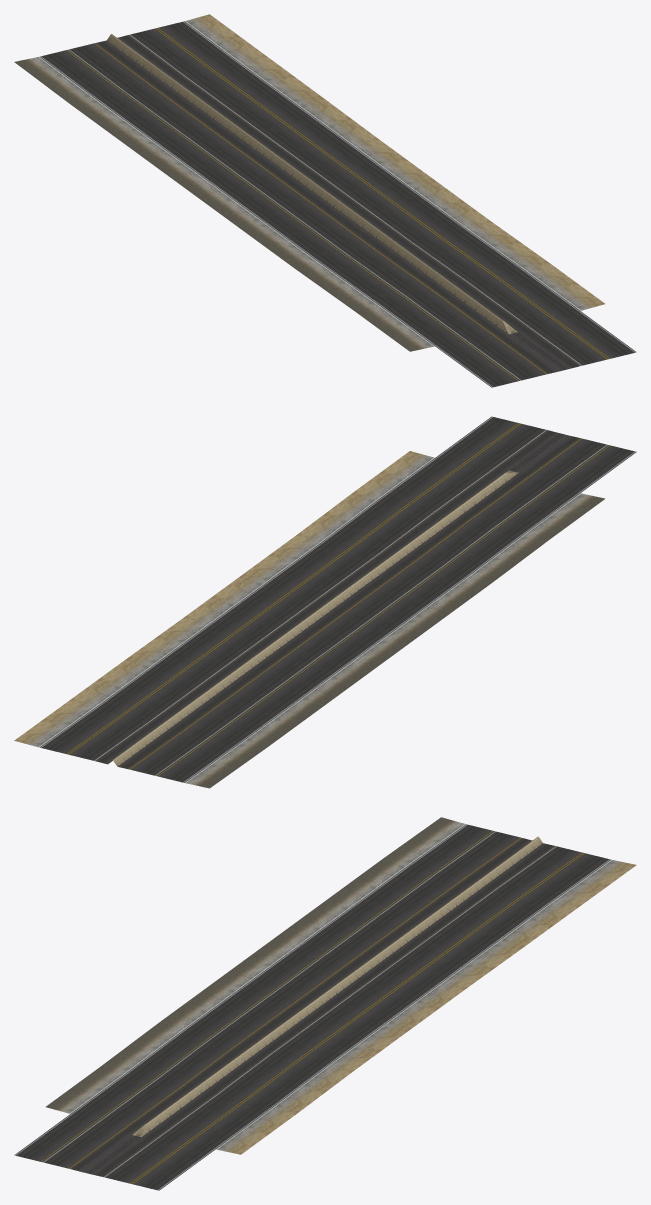
File: vgseedge05.obj
The picture shows the model from 3 angles, top to bottom: view 1: azimuth 30°, elevation 25°; view 2: azimuth 150°, elevation 25°; view 3: azimuth 330°, elevation 25°; orthographic projection.
Visible parts, largest first — view 1: vgsEedge05; view 2: vgsEedge05; view 3: vgsEedge05.
Boxes of the visible parts, x1,y1,x2,y2 form: vgsEedge05: (14,14,636,387); vgsEedge05: (14,416,636,788); vgsEedge05: (14,817,636,1190).
Bounding box in the file's own units: 40.24 × 1.01 × 160.
5 materials, 5 textured.
